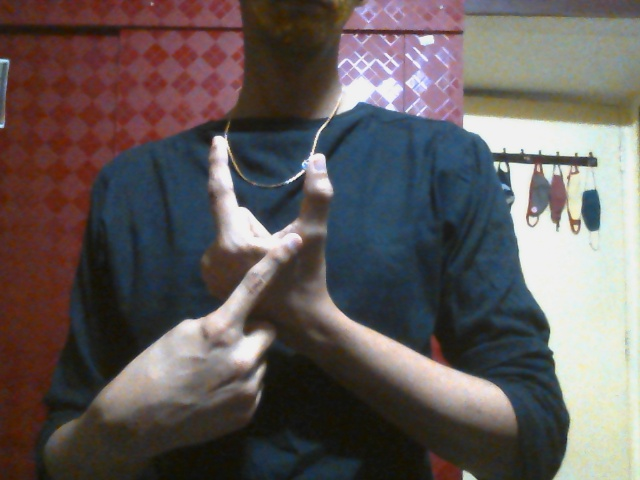Y: (157, 135, 334, 446)
